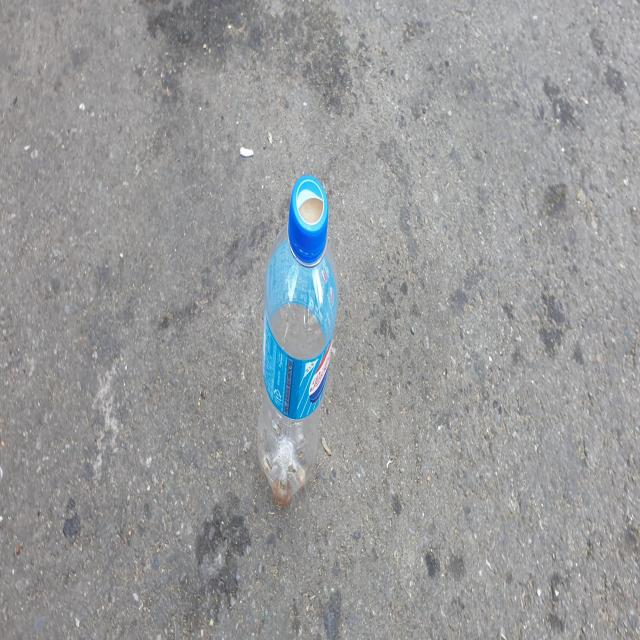plastic: (258, 174, 338, 504)
